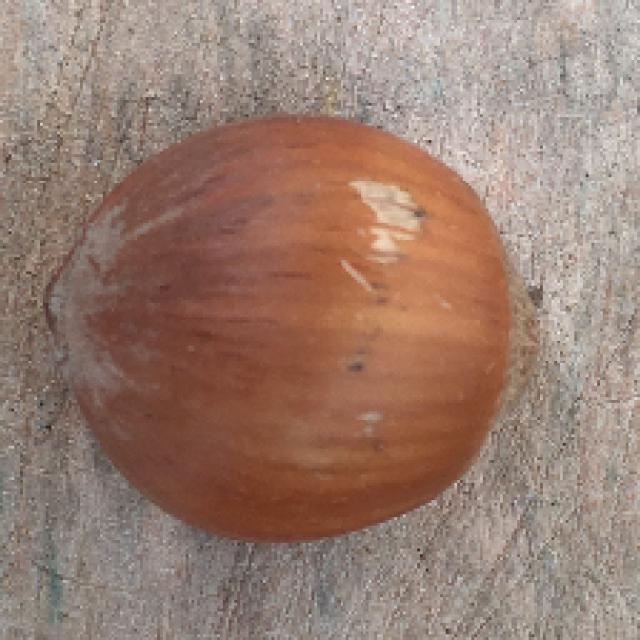damagedHazelnut: (47, 108, 531, 556)
